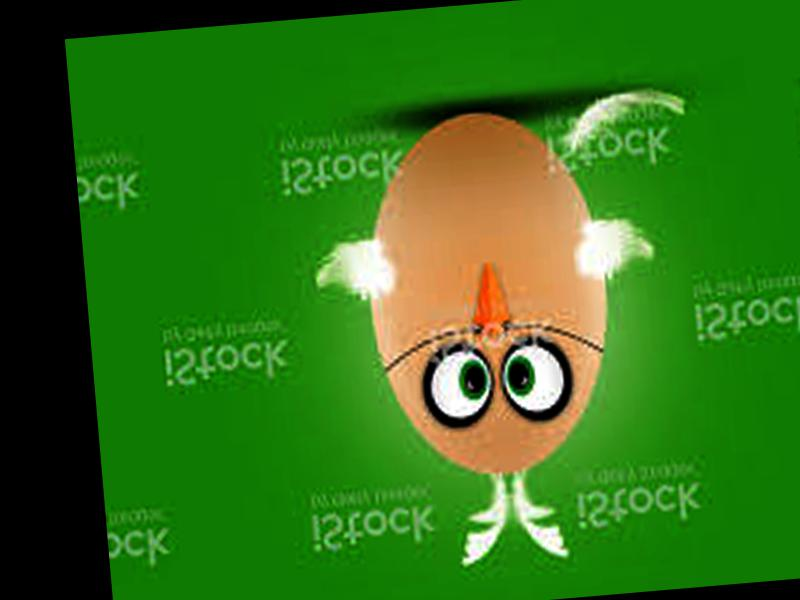Eggs: (358, 99, 621, 484)
